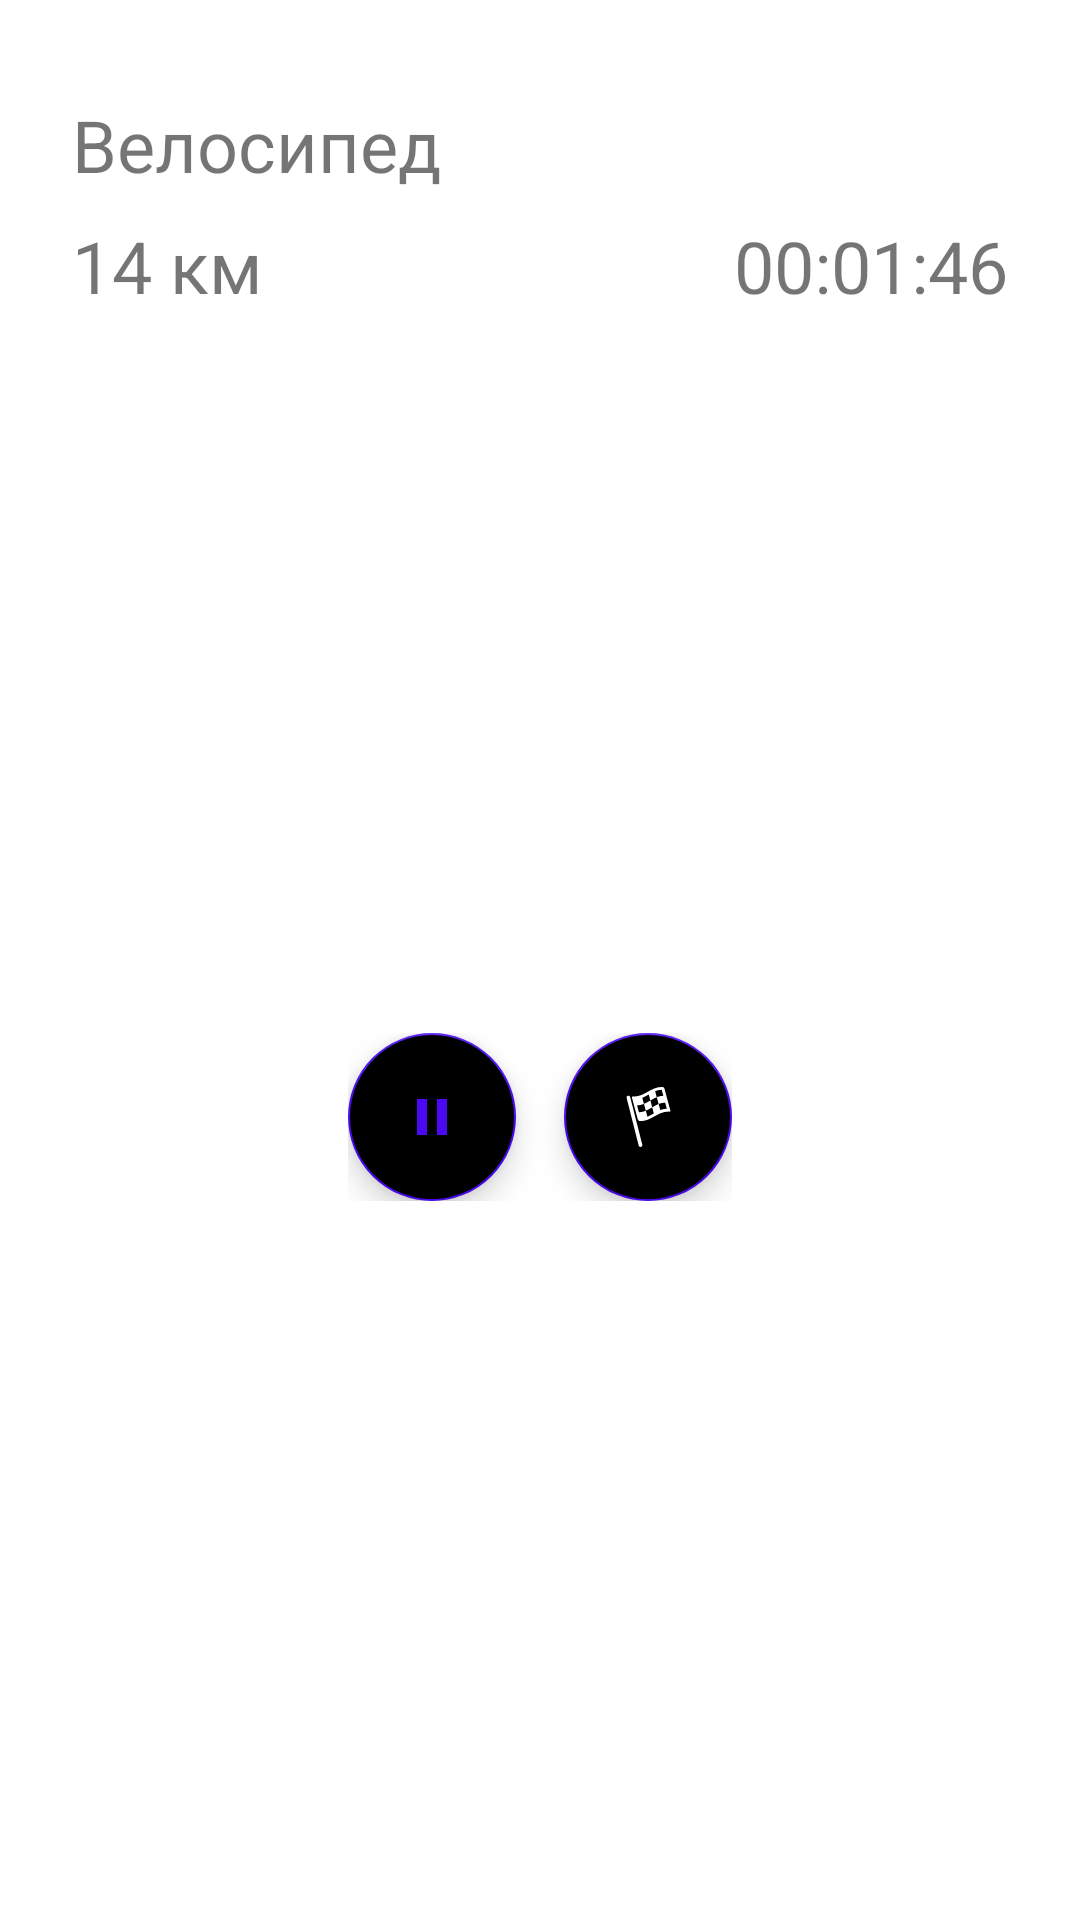

Point at icon controls on the screen. Image size 1080w x 1920h, points as (x=x, y=y).
fab finish: (x=648, y=1117)
pause: (x=432, y=1117)
